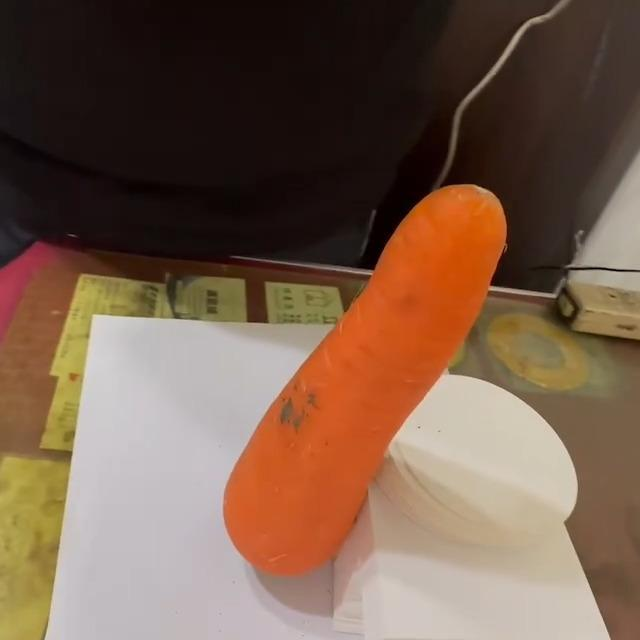carrot: (221, 181, 510, 585)
